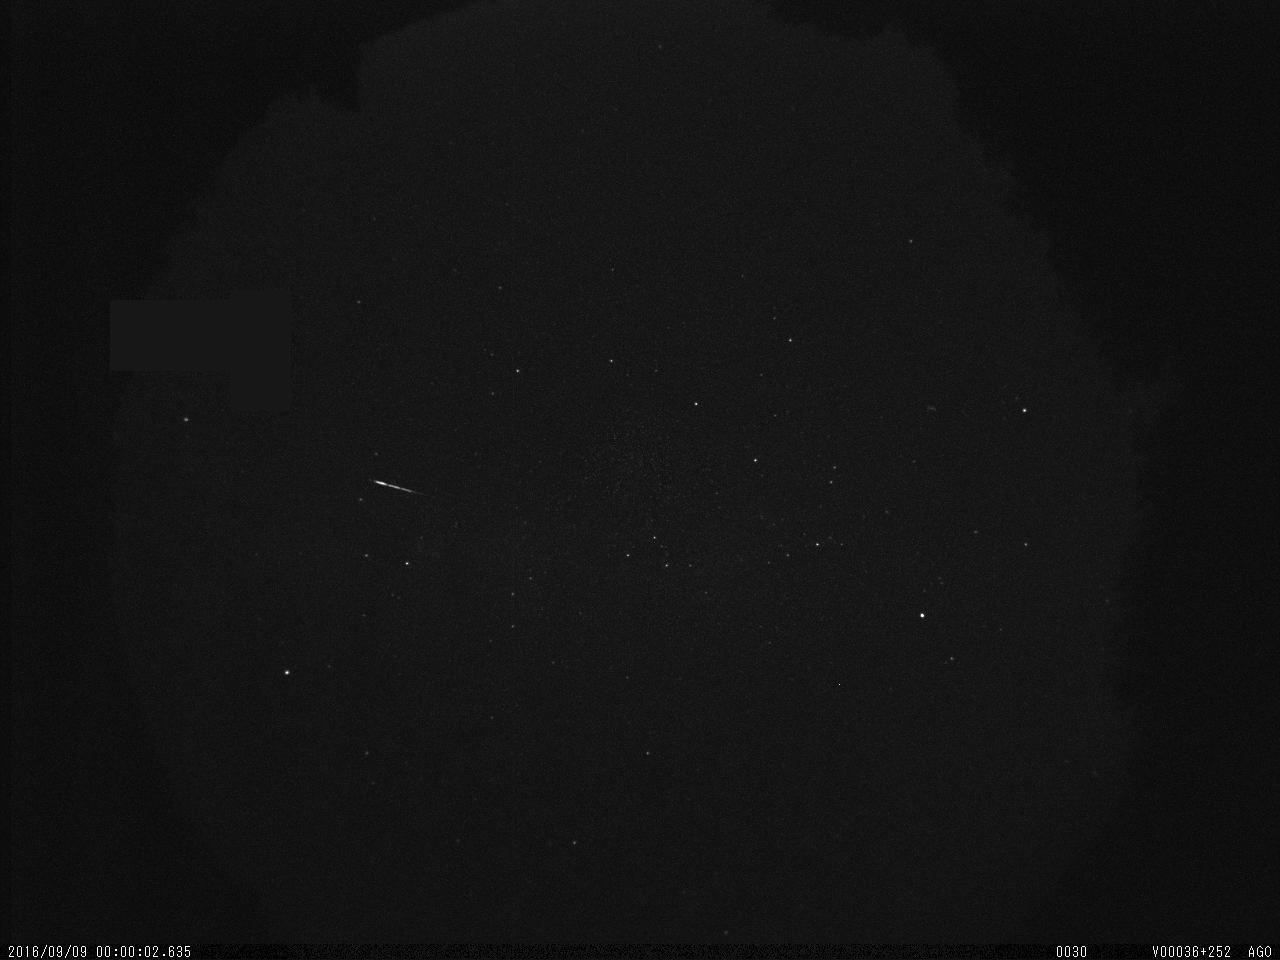meteor: (371, 469, 428, 509)
